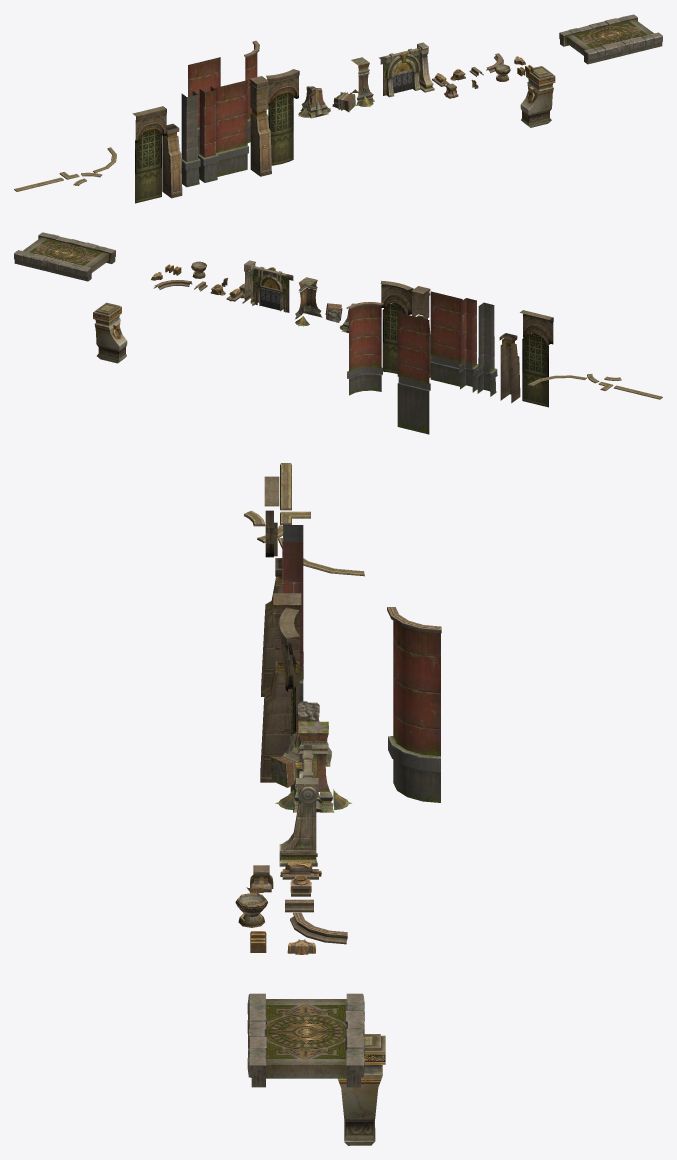
File: f_1011_thing01.FBX
3 renders of one model, top to bottom at view 1: azimuth 30°, elevation 25°; view 2: azimuth 150°, elevation 25°; view 3: azimuth 270°, elevation 25°, orthographic. The views are drawn at different scales.
Visible parts, largest first — view 1: f_1011_door008, f_1011_door0088, f_1011_door007, f_1011_door002, d_1011_floor01, f_1011_door003, f_1011_door089, f_1001_wall02, d_1011_floor022, f_1011_door009, f_1011_door01, f_1011_door090 (+5 smaller); view 2: f_1011_door090, d_1011_deco010, f_1011_door008, f_1011_door0088, f_1011_door007, d_1011_floor01, f_1011_door089, f_1001_wall02, f_1011_door003, d_1011_floor022, f_1011_door009, f_1011_door01 (+5 smaller); view 3: d_1011_deco010, d_1011_floor022, d_1011_floor01, f_1011_door002, f_1001_wall02, f_1011_thing01, f_1011_thing02, Object012, f_1011_door003, f_1011_door007, f_1011_door009, f_1011_door0088.
Part boxes in pixels (bbox=[...]): f_1011_door008: bbox=[215, 80, 248, 176]; f_1011_door0088: bbox=[132, 106, 166, 203]; f_1011_door007: bbox=[266, 69, 299, 165]; f_1011_door002: bbox=[249, 76, 271, 176]; d_1011_floor01: bbox=[559, 23, 625, 64]; f_1011_door003: bbox=[198, 86, 218, 182]; f_1011_door089: bbox=[181, 91, 200, 187]; f_1001_wall02: bbox=[520, 66, 555, 127]; d_1011_floor022: bbox=[597, 14, 662, 55]; f_1011_door009: bbox=[162, 123, 182, 198]; f_1011_door01: bbox=[379, 48, 420, 97]; f_1011_door090: bbox=[188, 57, 220, 154]; f_1011_door090: bbox=[397, 312, 430, 434]; d_1011_deco010: bbox=[346, 302, 383, 395]; f_1011_door008: bbox=[430, 291, 463, 386]; f_1011_door0088: bbox=[520, 310, 553, 407]; f_1011_door007: bbox=[380, 280, 413, 373]; d_1011_floor01: bbox=[50, 241, 115, 281]; f_1011_door089: bbox=[476, 302, 497, 396]; f_1001_wall02: bbox=[93, 302, 127, 363]; f_1011_door003: bbox=[459, 298, 478, 392]; d_1011_floor022: bbox=[14, 232, 78, 272]; f_1011_door009: bbox=[499, 333, 520, 403]; f_1011_door01: bbox=[248, 265, 293, 312]; d_1011_deco010: bbox=[387, 607, 441, 802]; d_1011_floor022: bbox=[247, 1027, 364, 1087]; d_1011_floor01: bbox=[247, 993, 364, 1037]; f_1011_door002: bbox=[260, 593, 301, 782]; f_1001_wall02: bbox=[338, 1034, 385, 1145]; f_1011_thing01: bbox=[275, 721, 351, 812]; f_1011_thing02: bbox=[279, 778, 318, 866]; Object012: bbox=[270, 701, 331, 787]; f_1011_door003: bbox=[282, 541, 303, 701]; f_1011_door007: bbox=[279, 607, 299, 792]; f_1011_door009: bbox=[261, 558, 282, 696]; f_1011_door0088: bbox=[264, 476, 279, 557].
Bounding box in the file's own units: 8369 × 1644 × 1190.
